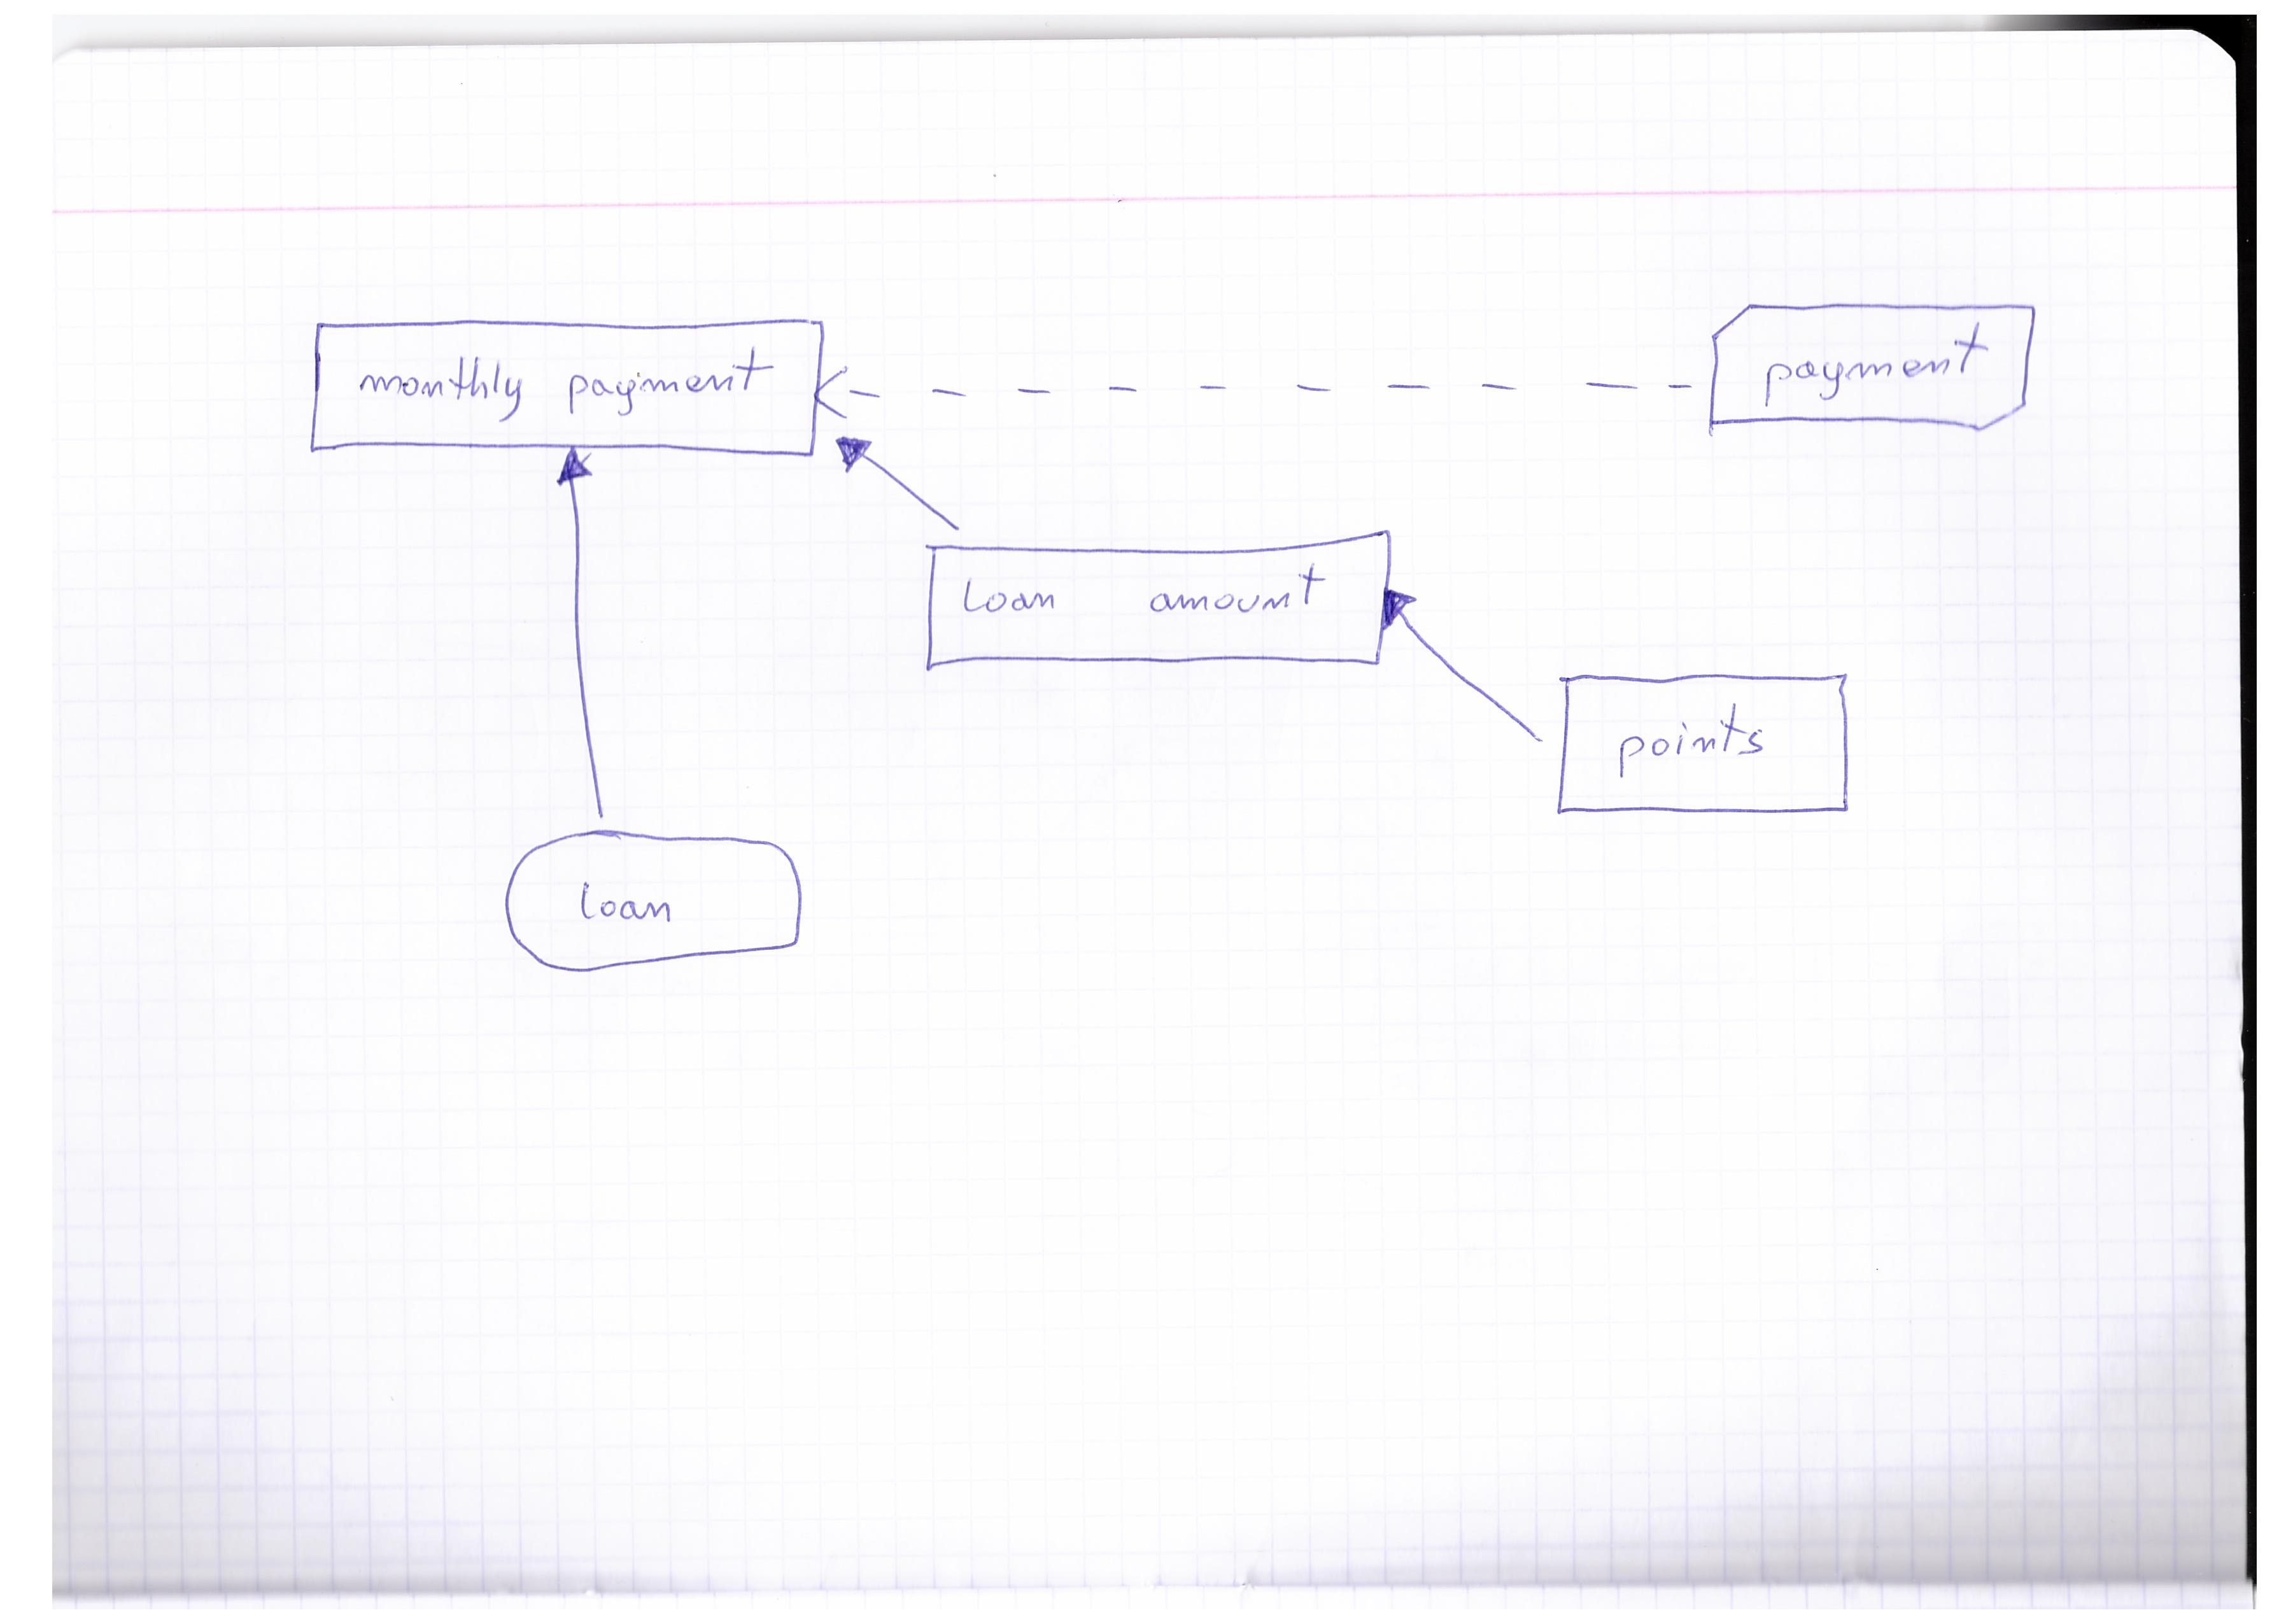arrow_information_requirement: (1369, 573, 1552, 763), (541, 434, 619, 823), (819, 427, 975, 538)
arrow_knowledge_requirement: (801, 353, 1706, 420), (1704, 285, 2051, 455)
node_decision: (286, 309, 824, 464), (915, 531, 1395, 671), (1550, 661, 1864, 833)
node_input_data: (490, 821, 821, 990)
text: (343, 339, 782, 427), (949, 561, 1342, 629), (1750, 316, 2003, 411), (1599, 692, 1776, 787), (559, 865, 696, 935)
